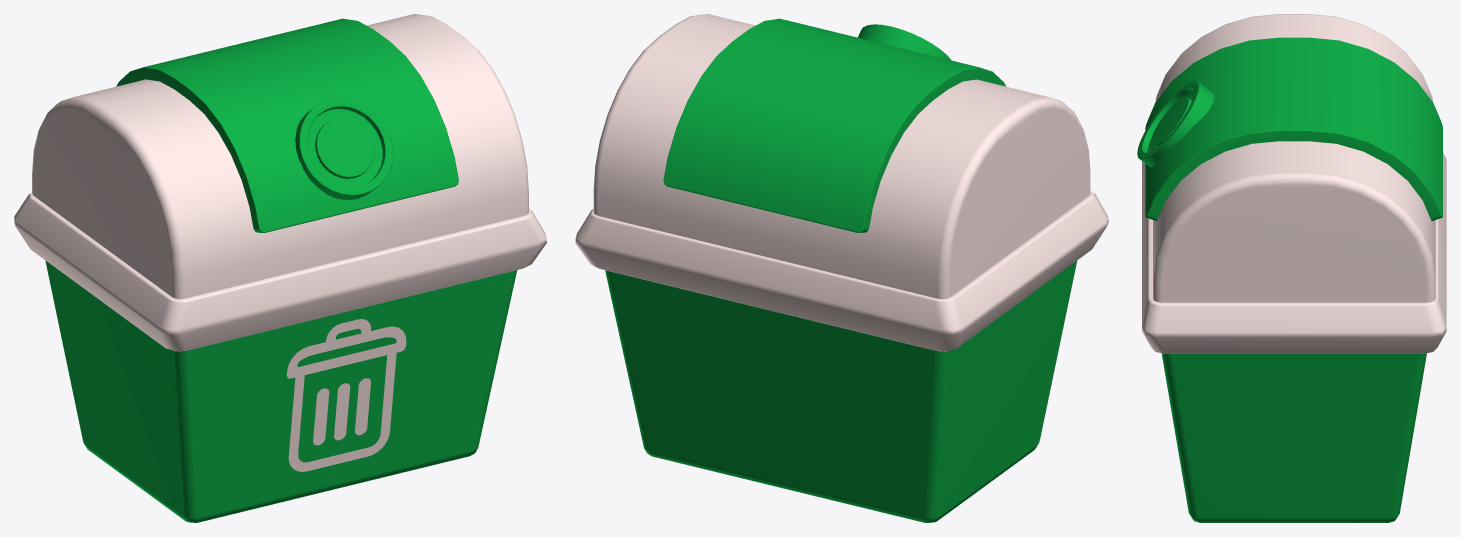
Rendered from City_2_Trash_Can_1.glb.
3 renders of one model, left to right at view 1: azimuth 30°, elevation 25°; view 2: azimuth 150°, elevation 25°; view 3: azimuth 270°, elevation 25°, orthographic. The views are drawn at different scales.
Parts seen in each view (by area): view 1: City_2_Trash_Can_1; view 2: City_2_Trash_Can_1; view 3: City_2_Trash_Can_1.
Boxes of the visible parts, x1,y1,x2,y2 form: City_2_Trash_Can_1: (14, 14, 546, 522); City_2_Trash_Can_1: (575, 14, 1108, 522); City_2_Trash_Can_1: (1137, 14, 1446, 522).
Bounding box in the file's own units: 1.95 × 1.91 × 1.42.
Materials: 1 (1 with a texture image).
